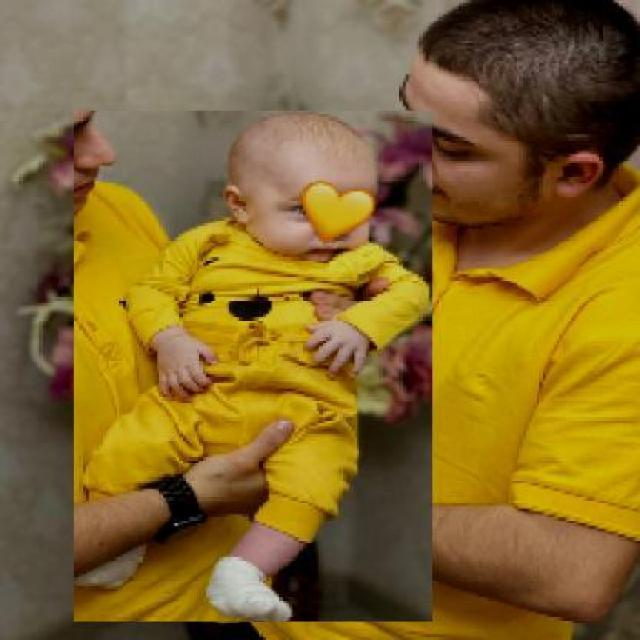child: (71, 111, 432, 623)
